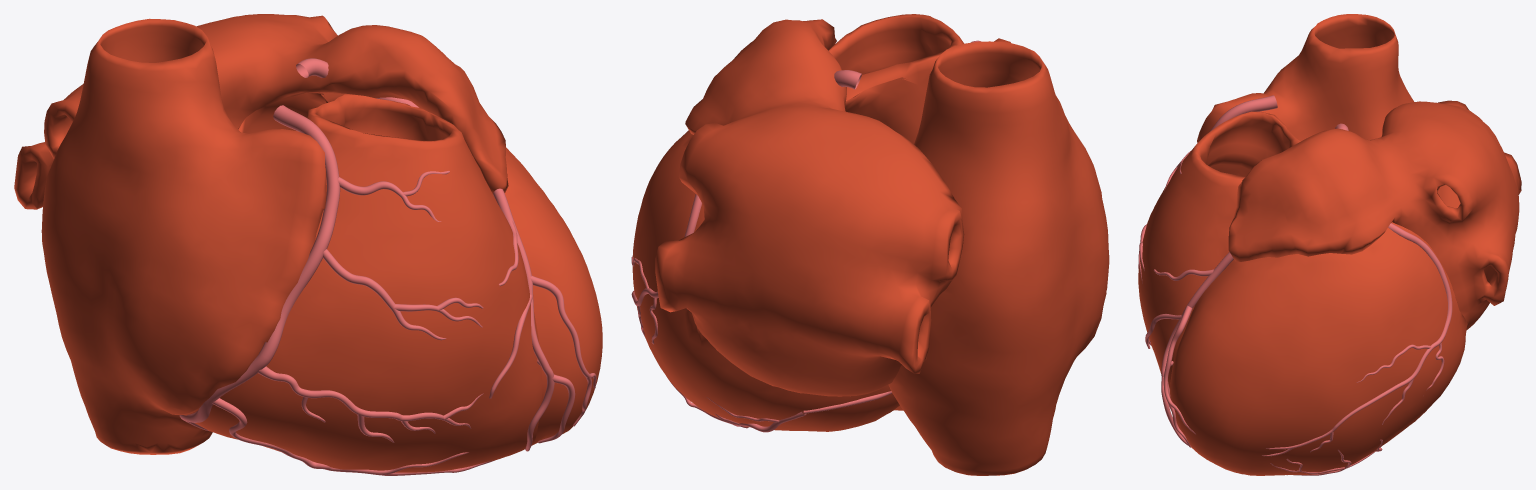
The model's file is Test_Herz.gltf.
The picture shows the model from 3 angles, left to right: view 1: azimuth 30°, elevation 25°; view 2: azimuth 150°, elevation 25°; view 3: azimuth 270°, elevation 25°; orthographic projection. The views are drawn at different scales.
Parts seen in each view (by area): view 1: Right atrium.001, Right ventricle.001, Left atrium.001, Left ventricle.001, Right coronary artery.001, Anterior interventricular artery (Left ant descending arter; view 2: Left atrium.001, Right atrium.001, Left ventricle.001, Right ventricle.001, Circumflex artery of heart.001, [Right posterolateral branch].001; view 3: Left ventricle.001, Left atrium.001, Right ventricle.001, Right atrium.001, Anterior interventricular artery (Left ant descending arter, Circumflex artery of heart.001, Right coronary artery.001, [Right posterolateral branch].001.
Part boxes in pixels (x1,y1,x2,y2): Right atrium.001: [41, 18, 326, 454]; Right ventricle.001: [184, 92, 542, 472]; Left atrium.001: [14, 14, 508, 209]; Left ventricle.001: [238, 92, 602, 445]; Right coronary artery.001: [179, 105, 495, 475]; Anterior interventricular artery (Left ant descending arter: [376, 97, 596, 451]; Left atrium.001: [655, 19, 964, 396]; Right atrium.001: [888, 38, 1109, 475]; Left ventricle.001: [632, 77, 926, 431]; Right ventricle.001: [828, 14, 963, 410]; Circumflex artery of heart.001: [631, 194, 701, 344]; [Right posterolateral branch].001: [666, 376, 806, 432]; Left ventricle.001: [1170, 222, 1467, 475]; Left atrium.001: [1228, 100, 1521, 330]; Right ventricle.001: [1138, 111, 1300, 388]; Right atrium.001: [1197, 14, 1414, 222]; Anterior interventricular artery (Left ant descending arter: [1145, 252, 1233, 447]; Circumflex artery of heart.001: [1261, 223, 1452, 456]; Right coronary artery.001: [1138, 95, 1277, 345]; [Right posterolateral branch].001: [1270, 439, 1382, 475].
Bounding box in the file's own units: 0.1192 × 0.1089 × 0.1129.
